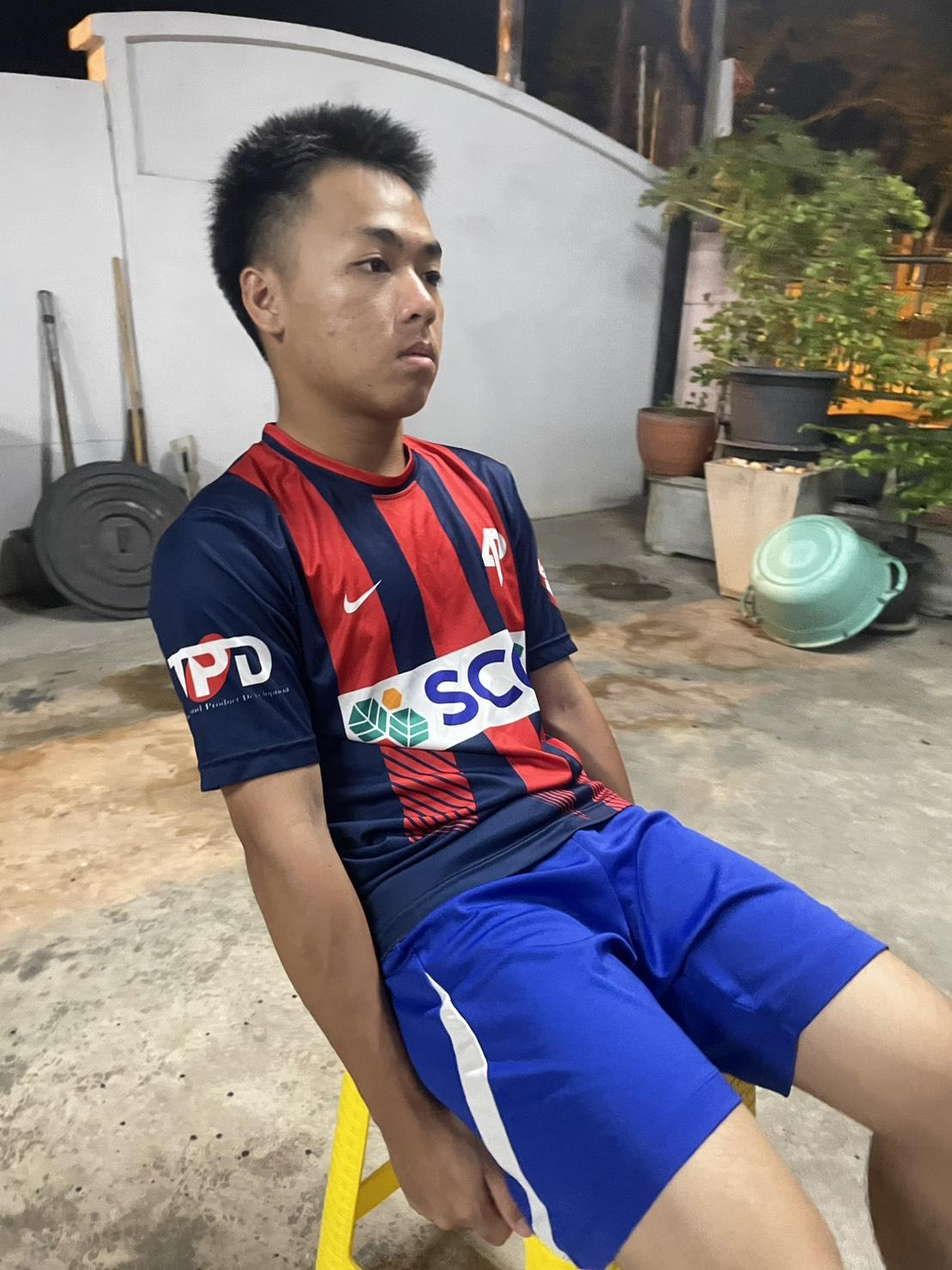BadPosture: (150, 103, 951, 1269)
